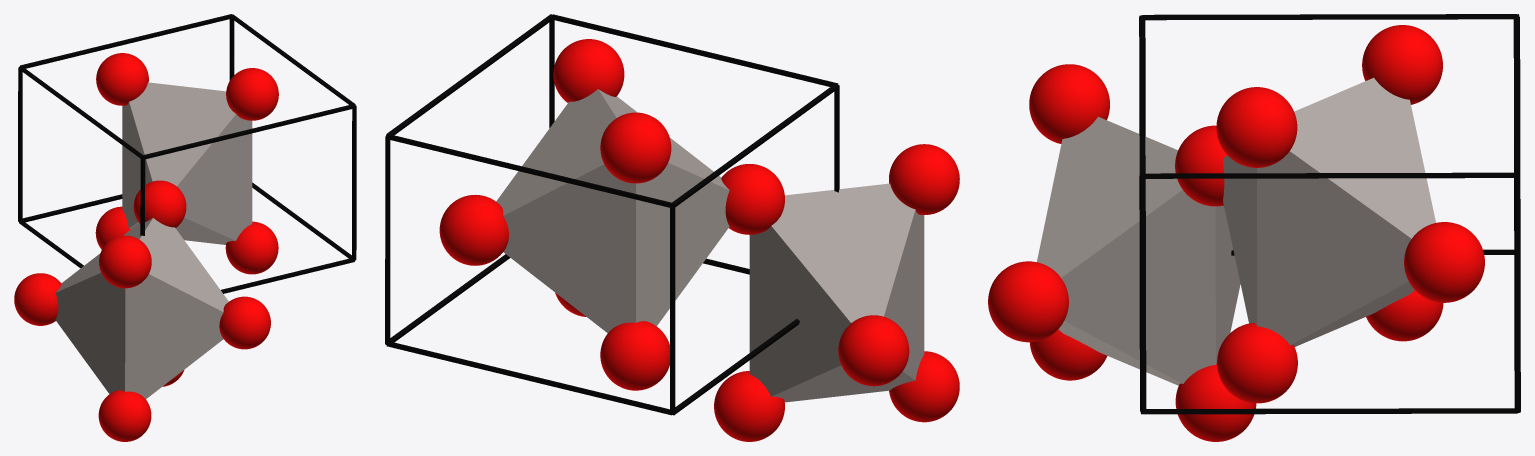
The model's file is RuO2.glb.
The picture shows the model from 3 angles, left to right: view 1: azimuth 30°, elevation 25°; view 2: azimuth 150°, elevation 25°; view 3: azimuth 270°, elevation 25°; orthographic projection. The views are drawn at different scales.
Parts seen in each view (by area): view 1: CMPoly0, CMPoly2, CMPoly3, CMPoly1, CMAtom_18, CMAtom_29, CMAtom_16, CMAtom_35, CMAtom_30, CMAtom_25, CMAtom_10, CMAtom_24 (+13 smaller); view 2: CMPoly2, CMPoly0, CMPoly1, CMPoly3, CMAtom_30, CMAtom_10, CMAtom_26, CMAtom_23, CMAtom_18, CMAtom_13, CMAtom_24, CMAtom_29 (+12 smaller); view 3: CMPoly2, CMPoly0, CMPoly3, CMPoly1, CMAtom_29, CMAtom_35, CMAtom_23, CMAtom_25, CMAtom_18, CMAtom_30, CMAtom_13, CMAtom_24 (+9 smaller).
Part boxes in pixels (x1,y1,x2,y2): CMPoly0: (55,218,228,398); CMPoly2: (122,82,252,244); CMPoly3: (122,83,252,243); CMPoly1: (55,218,228,397); CMAtom_18: (99,235,151,288); CMAtom_29: (226,68,278,120); CMAtom_16: (98,390,151,441); CMAtom_35: (219,296,270,349); CMAtom_30: (96,53,148,105); CMAtom_25: (225,221,278,274); CMAtom_10: (14,273,61,325); CMAtom_24: (133,180,186,227); CMPoly2: (496,89,729,332); CMPoly0: (749,183,924,402); CMPoly1: (749,184,924,401); CMPoly3: (497,91,728,332); CMAtom_30: (600,112,671,183); CMAtom_10: (838,315,909,386); CMAtom_26: (600,321,669,390); CMAtom_23: (439,194,508,265); CMAtom_18: (889,144,959,214); CMAtom_13: (714,371,784,441); CMAtom_24: (721,164,784,234); CMAtom_29: (553,39,624,102); CMPoly2: (1222,77,1435,346); CMPoly0: (1037,116,1240,385); CMPoly3: (1223,78,1435,346); CMPoly1: (1039,118,1239,385); CMAtom_29: (1216,87,1297,167); CMAtom_35: (988,261,1068,342); CMAtom_23: (1404,222,1484,302); CMAtom_25: (1217,323,1297,403); CMAtom_18: (1029,64,1109,143); CMAtom_30: (1362,25,1442,104); CMAtom_13: (1175,364,1256,441); CMAtom_24: (1175,125,1226,206).
Size of the model in its own units: 0.8316 by 0.7355 by 0.8313.
